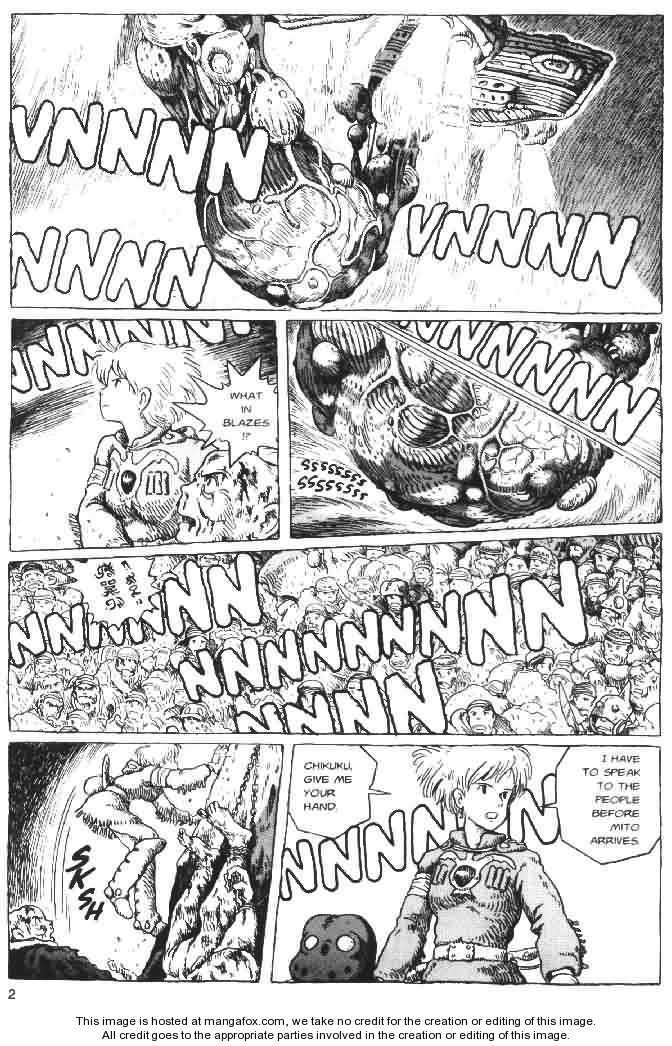Bubble: (552, 743, 662, 867), (169, 353, 280, 468), (288, 742, 381, 840)
